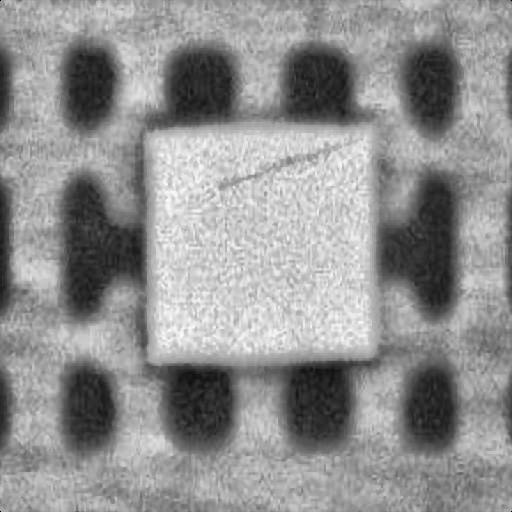DIE_CRACK: (326, 90, 512, 122)
